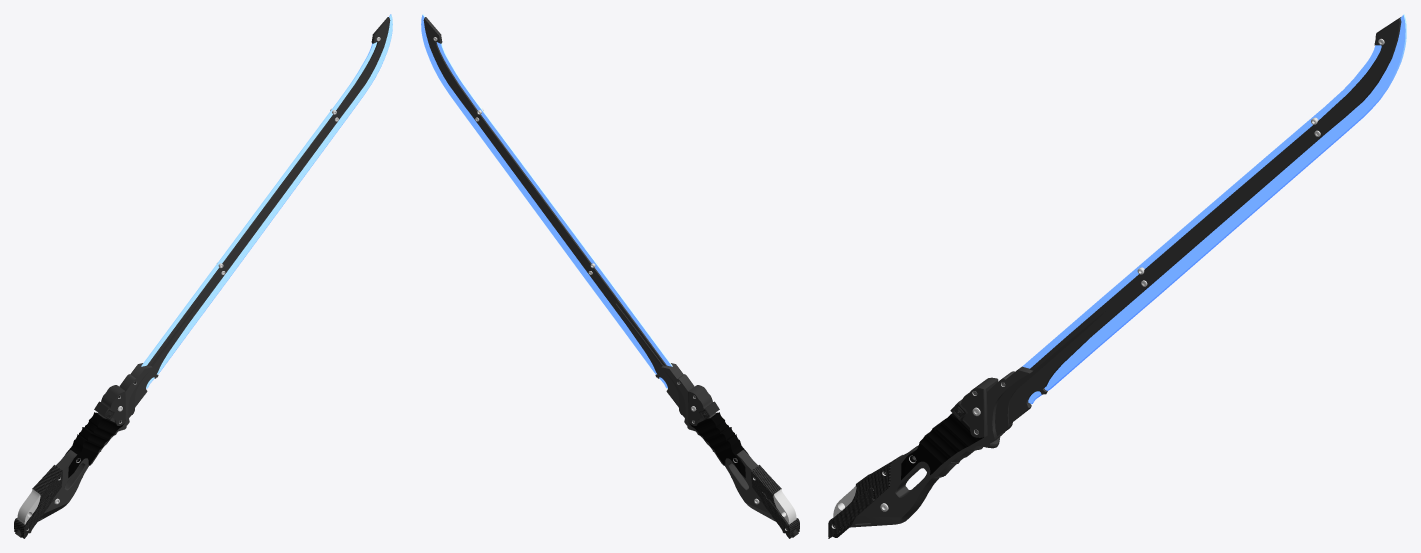
Rendered from schwert.glb.
3 views of the same model, side by side, from view 1: azimuth 30°, elevation 25°; view 2: azimuth 150°, elevation 25°; view 3: azimuth 330°, elevation 25° (orthographic). The views are drawn at different scales.
Parts seen in each view (by area): view 1: Vert.001_steel dark used_0, Vert.008_LED Bulb_0, Handle piece_carbon fiber plane_0, Cylinder_Handle Bottom_0; view 2: Vert.001_steel dark used_0, Vert.008_LED Bulb_0, Handle piece_carbon fiber plane_0, Cylinder_Handle Bottom_0; view 3: Vert.001_steel dark used_0, Vert.008_LED Bulb_0, Handle piece_carbon fiber plane_0, Cylinder_Handle Bottom_0.
Part boxes in pixels (x1,y1,x2,y2): Vert.001_steel dark used_0: (17, 17, 390, 524); Vert.008_LED Bulb_0: (141, 14, 392, 388); Handle piece_carbon fiber plane_0: (14, 465, 62, 538); Cylinder_Handle Bottom_0: (15, 385, 125, 537); Vert.001_steel dark used_0: (423, 17, 796, 524); Vert.008_LED Bulb_0: (421, 14, 672, 388); Handle piece_carbon fiber plane_0: (751, 465, 799, 538); Cylinder_Handle Bottom_0: (688, 385, 798, 537); Vert.001_steel dark used_0: (833, 17, 1401, 527); Vert.008_LED Bulb_0: (1022, 14, 1406, 404); Handle piece_carbon fiber plane_0: (828, 455, 902, 538); Cylinder_Handle Bottom_0: (833, 377, 998, 537).
Size of the model in its own units: 328 by 360 by 17.33.
Materials: 7 (7 with a texture image).
